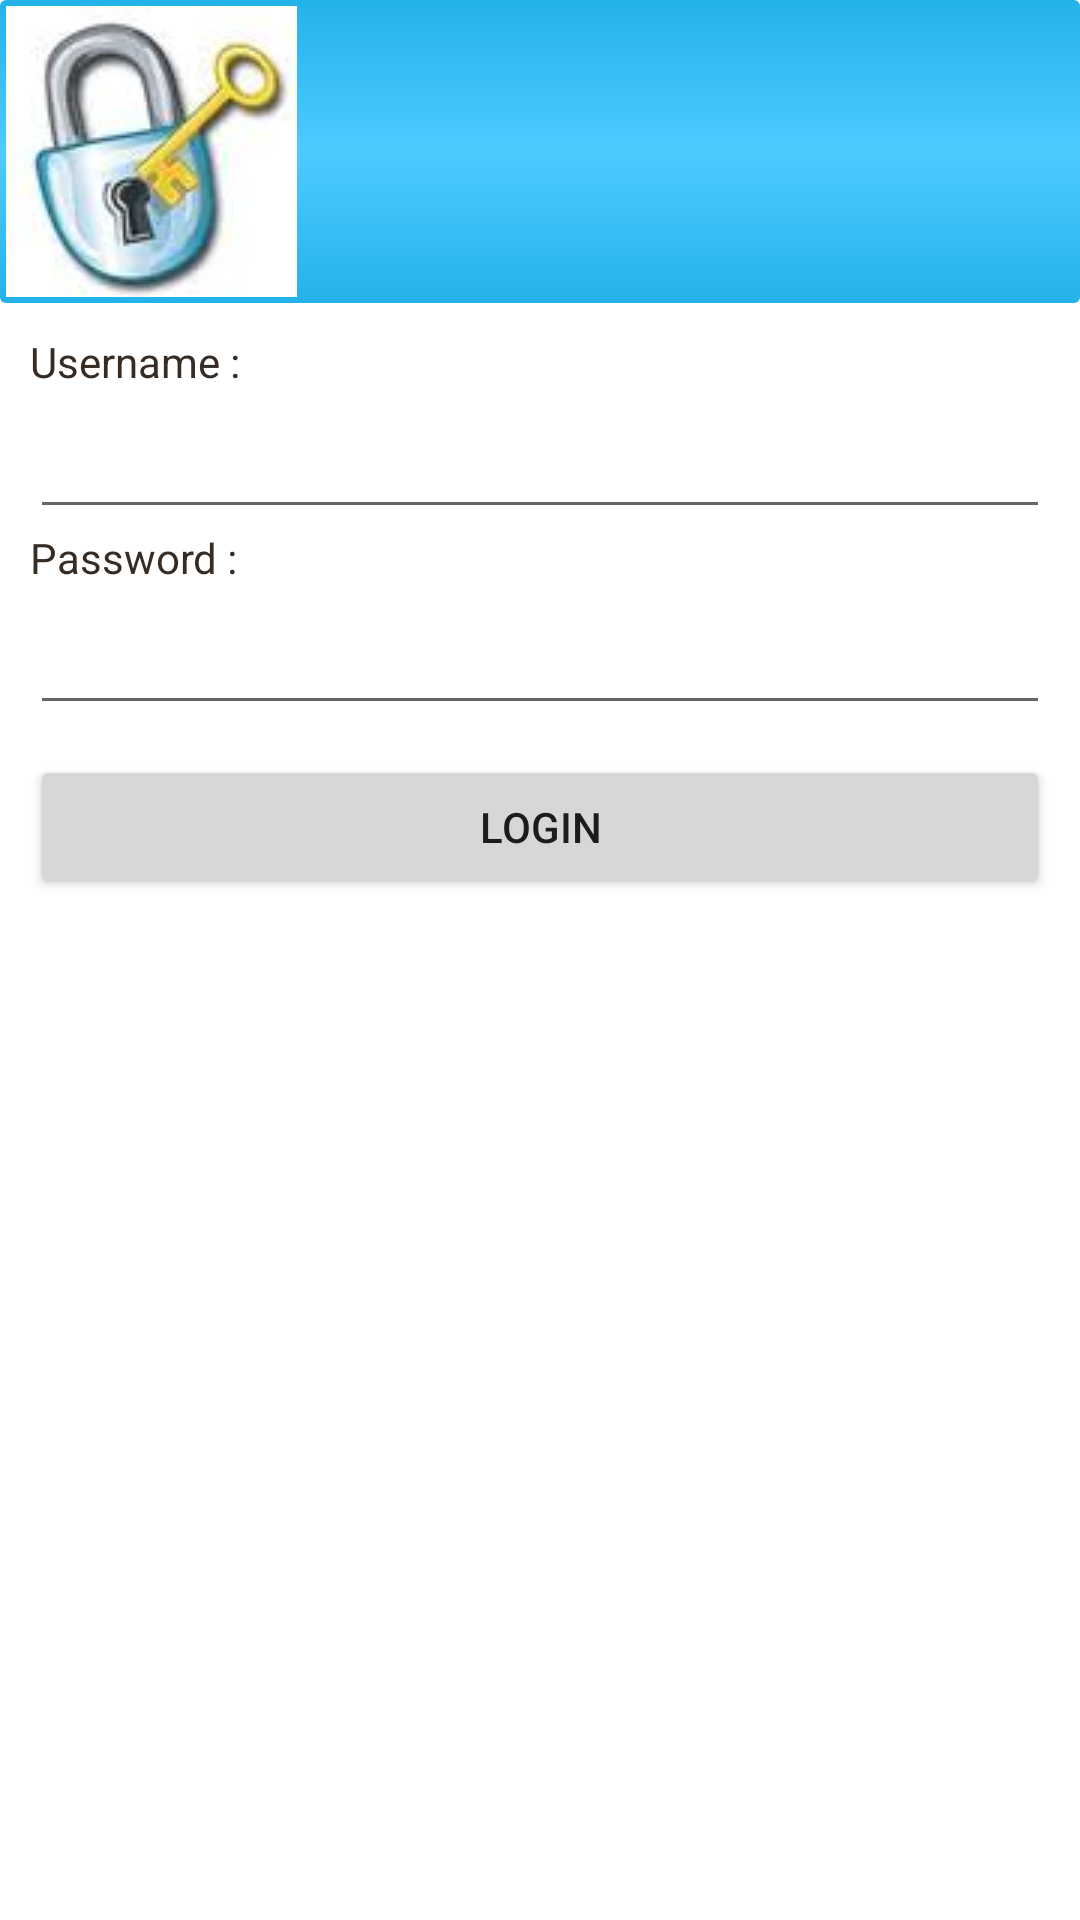

Icons on this 1080 × 1920 Android screen, each with the point to tap as point (x, y):
lock: point (151, 151)
